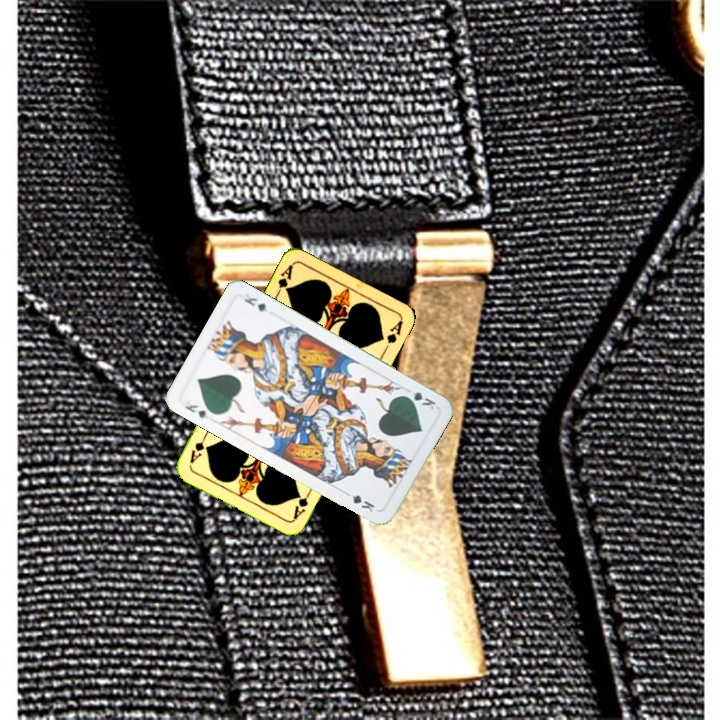GA: (289, 484, 315, 522), (272, 261, 296, 299)
GK: (399, 388, 439, 412), (180, 401, 212, 422)
